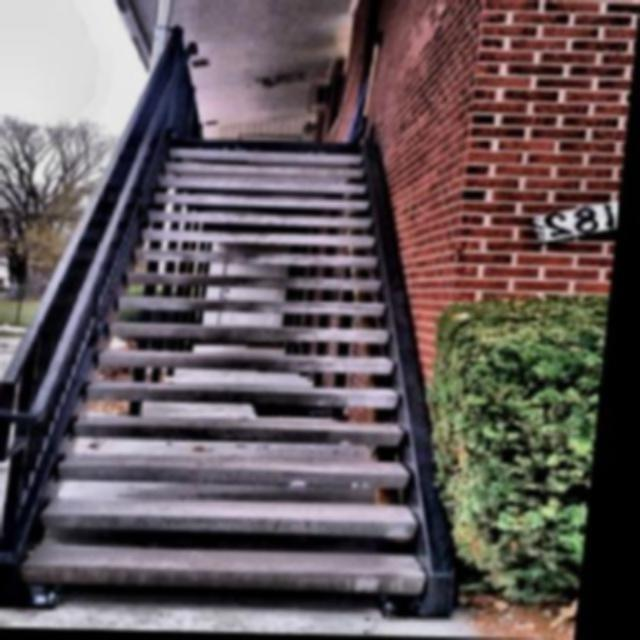stair: (2, 68, 510, 628)
